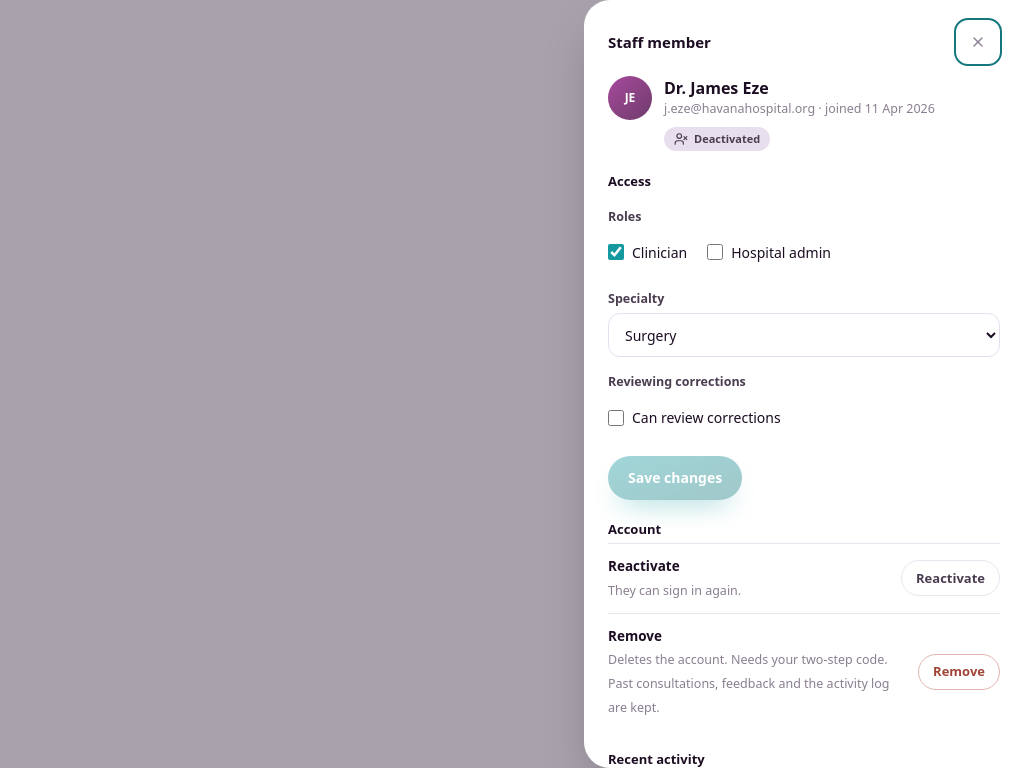
Test: AccountActions › removes with your two-step code, after a confirmation that names the person, and closes the panel
Click the button "Remove" at (959, 672), box [918,654,1000,690]
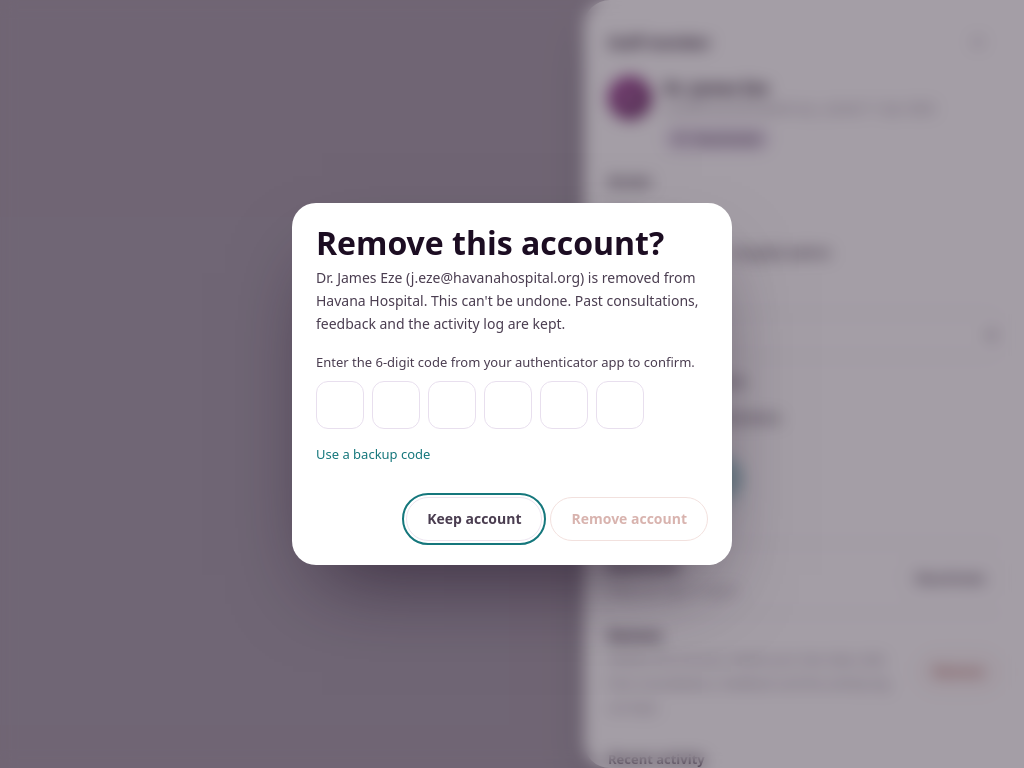
Check: the text "This can't be undone" is shown, box [316,268,698,333]
Check: the button "Remove account" is disabled, box [550,497,708,541]
Click the field named "Digit 1 of 6" at (340, 405), box [316,381,364,429]
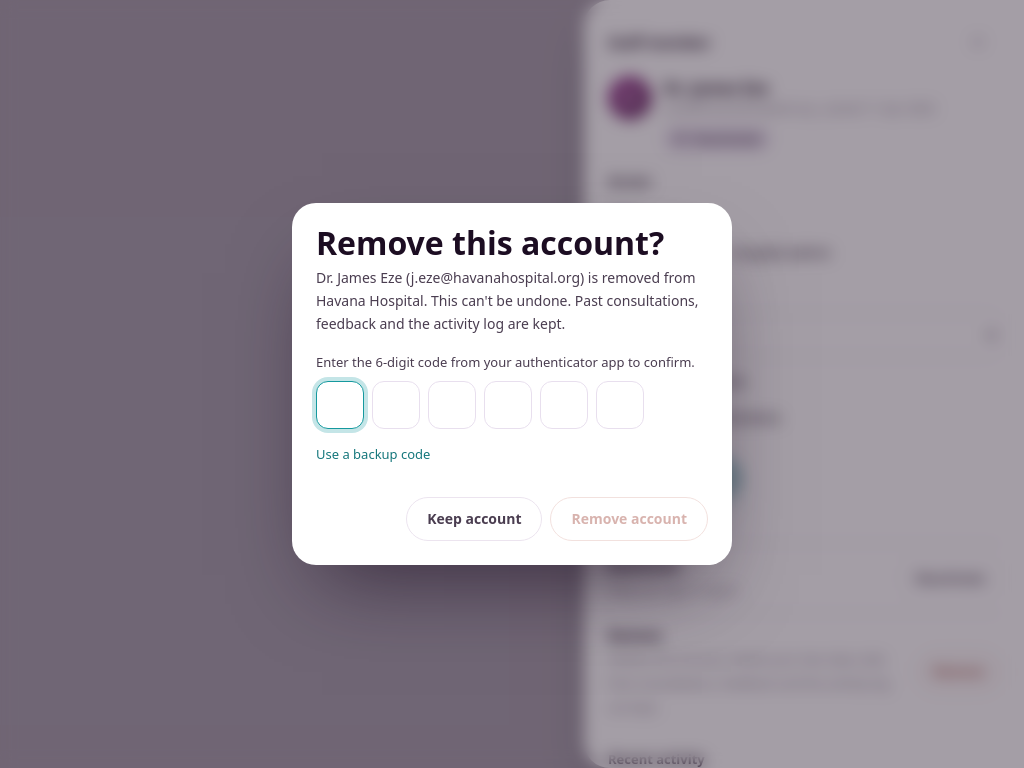
Type keys "12345"
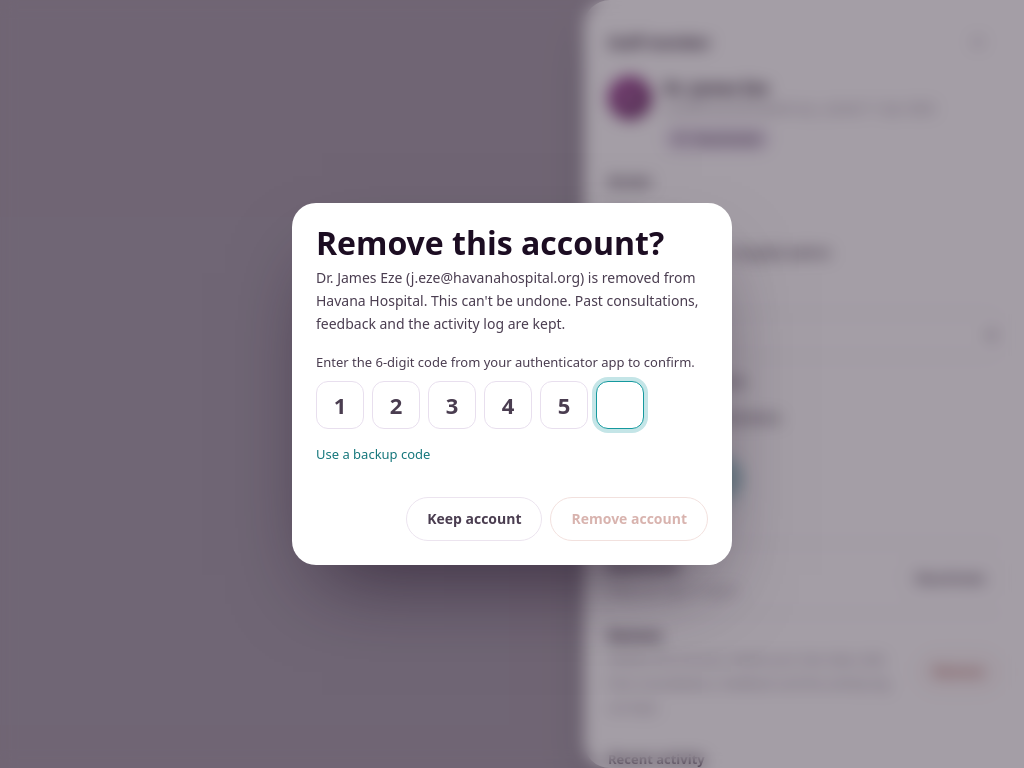
Check: the button "Remove account" is disabled, box [550,497,708,541]
// The sixth digit submits on its own.
Type keys "6"
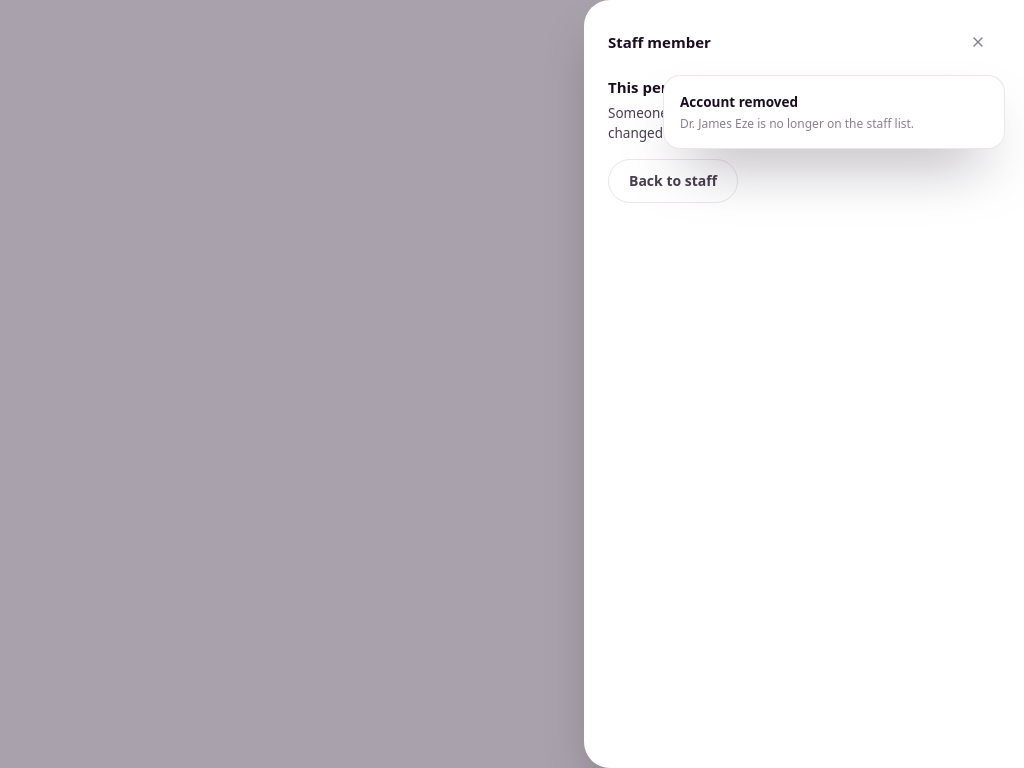
Check: the text "Account removed" is shown, box [680,93,798,111]
